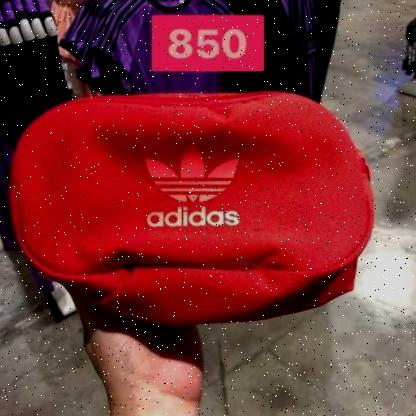bag: (7, 72, 384, 332)
